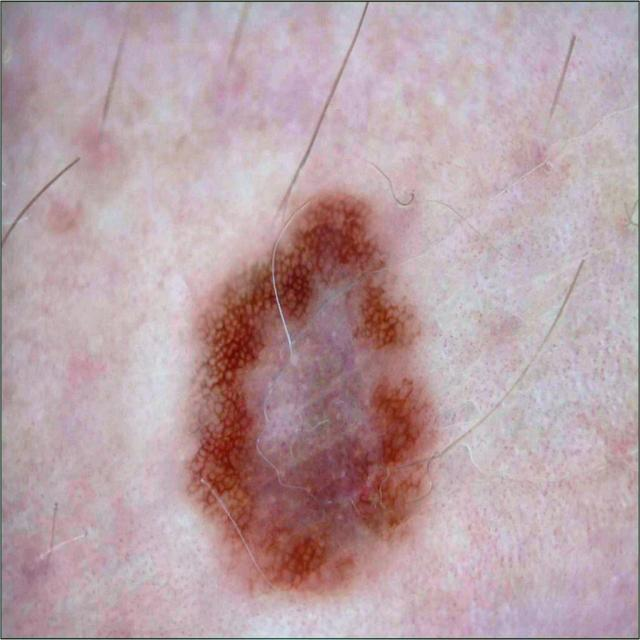Melanocytic-Nevi-NV-: (191, 163, 490, 582)
